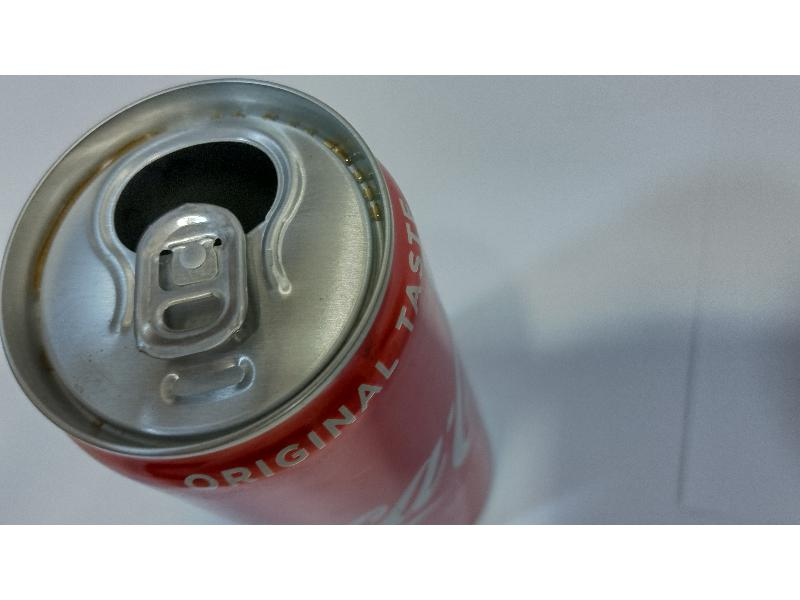can: (2, 73, 506, 525)
